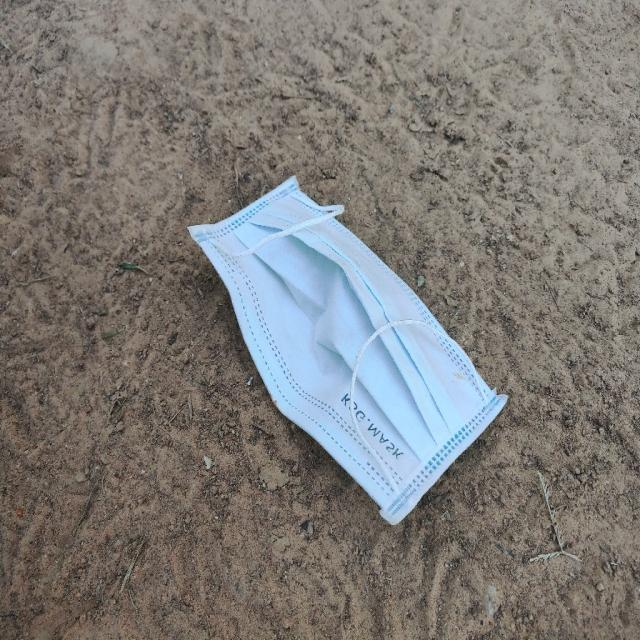non-organic waste: (187, 171, 509, 528)
